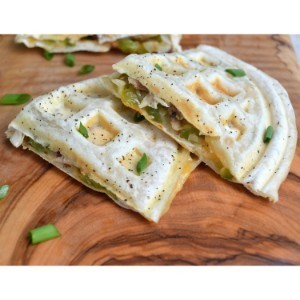cheese_brain food: (130, 70, 261, 156)
